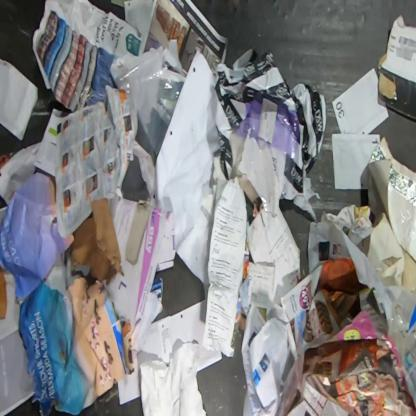cardboard: (69, 198, 124, 286), (378, 15, 415, 123)
soft_plastic: (212, 47, 327, 223), (110, 48, 186, 155), (381, 282, 415, 405)
